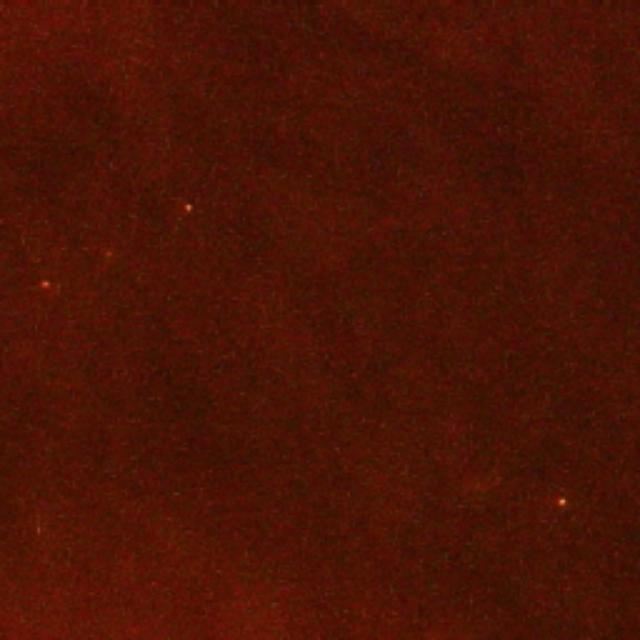Fragment: (40, 278, 52, 292), (184, 203, 193, 219), (560, 497, 568, 509)
